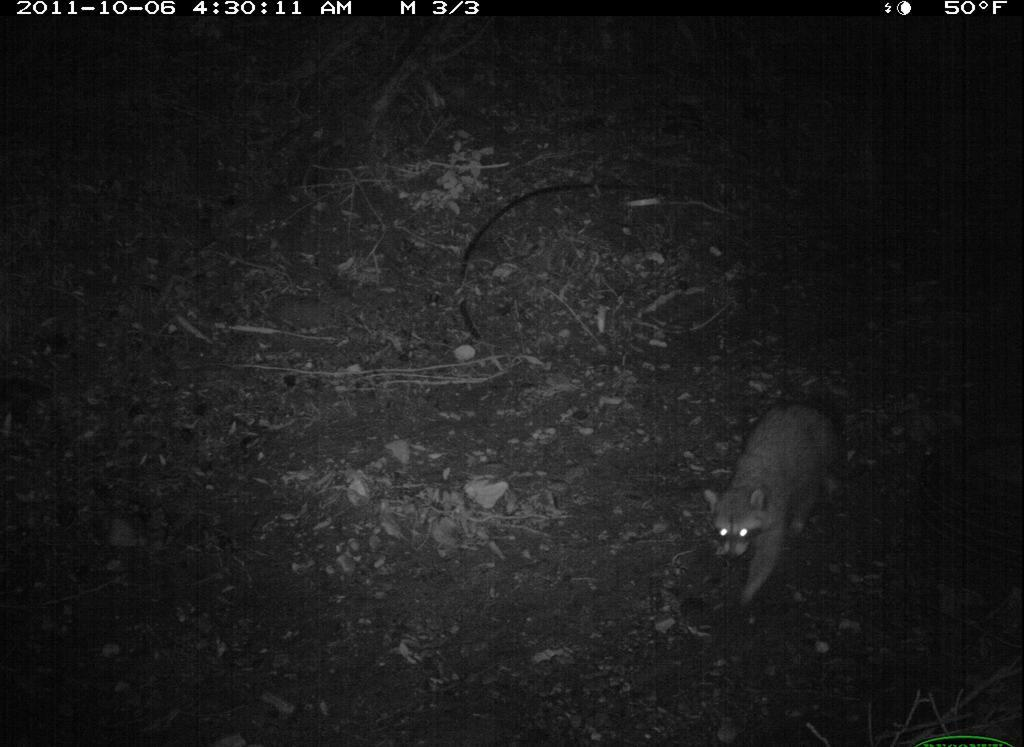raccoon: (698, 390, 857, 615)
